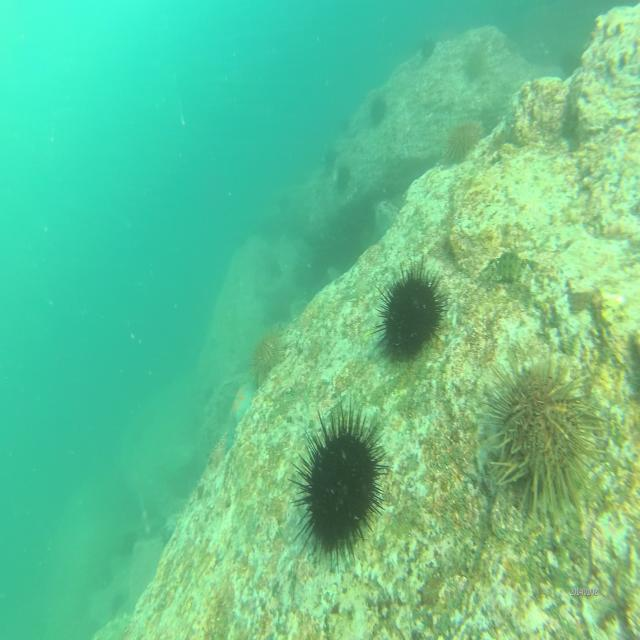echinus: (483, 344, 602, 529), (291, 394, 383, 565), (372, 252, 444, 373), (442, 117, 483, 169), (252, 326, 282, 388), (464, 42, 486, 82), (332, 161, 354, 198), (369, 92, 387, 134), (419, 32, 436, 62)
starfish: (225, 380, 257, 458)
